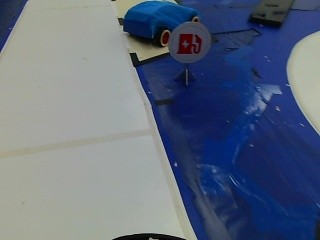battery: (167, 21, 209, 63)
